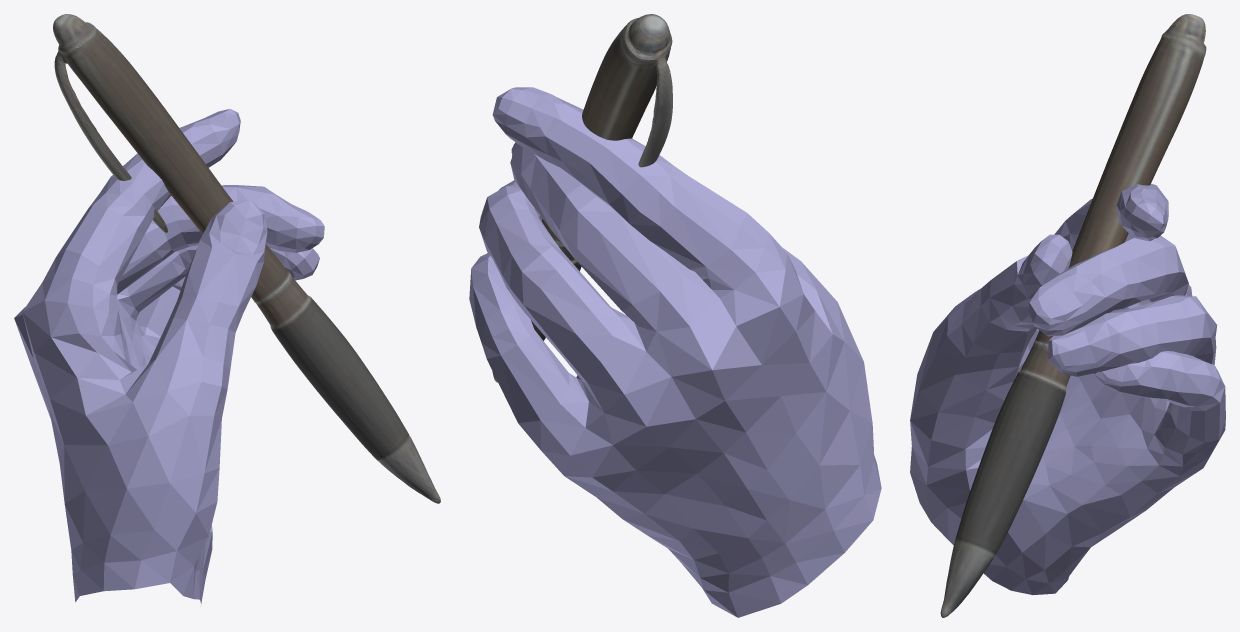
Rendered from frame_0042_source_000042_hand_object.glb.
3 views of the same model, side by side, from view 1: azimuth 30°, elevation 25°; view 2: azimuth 150°, elevation 25°; view 3: azimuth 270°, elevation 25° (orthographic). The views are drawn at different scales.
Visible parts, largest first — view 1: world; view 2: world; view 3: world.
Boxes of the visible parts, box(x1,y1,x2,y2) form: world: box(14, 14, 440, 606); world: box(469, 14, 881, 617); world: box(910, 14, 1225, 617).
Bounding box in the file's own units: 0.1193 × 0.1851 × 0.0925.
